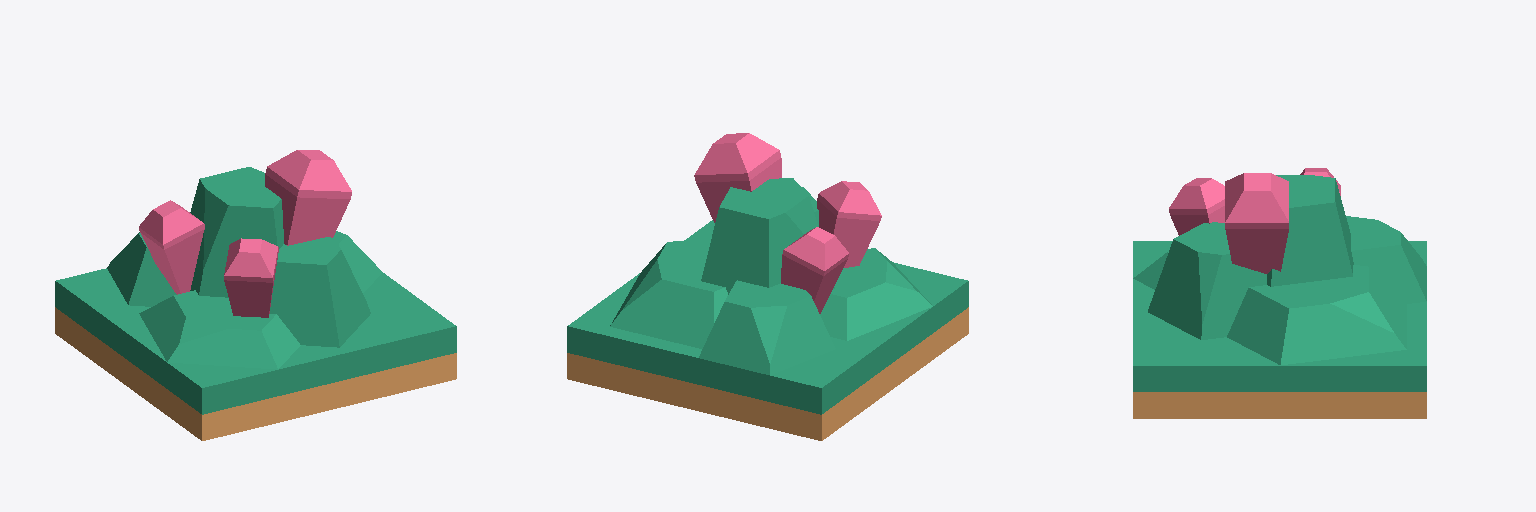
The model's file is tile_crystal.obj.
3 views of the same model, side by side, from view 1: azimuth 30°, elevation 25°; view 2: azimuth 150°, elevation 25°; view 3: azimuth 270°, elevation 25° (orthographic).
Parts seen in each view (by area): view 1: tile_crystal, rocks, crystal; view 2: rocks, tile_crystal, crystal; view 3: rocks, tile_crystal, crystal.
Part boxes in pixels (x1,y1,x2,y2): tile_crystal: (55, 268, 456, 440); rocks: (107, 167, 382, 369); crystal: (139, 150, 351, 317); rocks: (610, 178, 932, 375); tile_crystal: (567, 220, 968, 440); crystal: (694, 133, 881, 313); rocks: (1133, 175, 1426, 364); tile_crystal: (1133, 241, 1426, 418); crystal: (1169, 168, 1340, 273).
Size of the model in its own units: 1 by 0.7565 by 1.